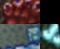altar: (0, 0, 40, 24)
workbench: (40, 0, 60, 24)
